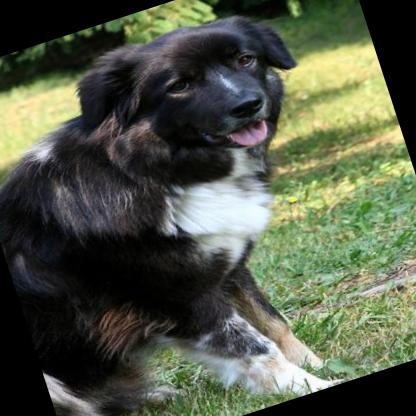Tibetan_mastiff: (0, 0, 398, 416)
